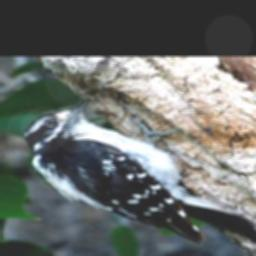Woodpecker: (17, 98, 256, 250)
